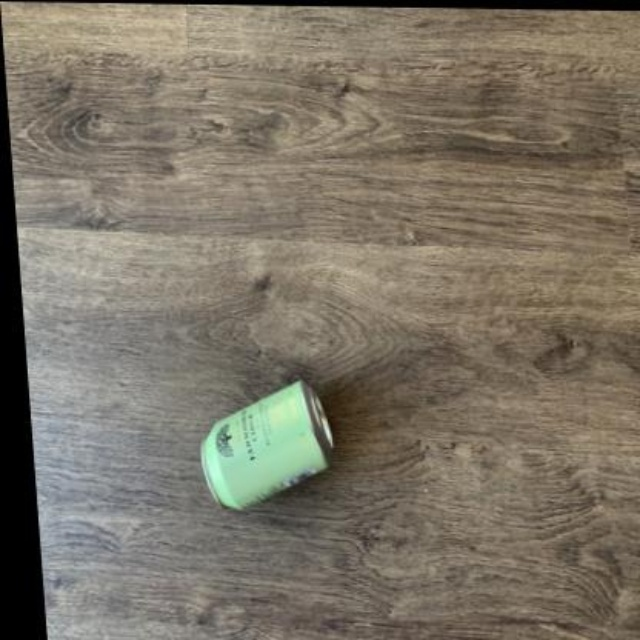trash: (202, 380, 332, 508)
